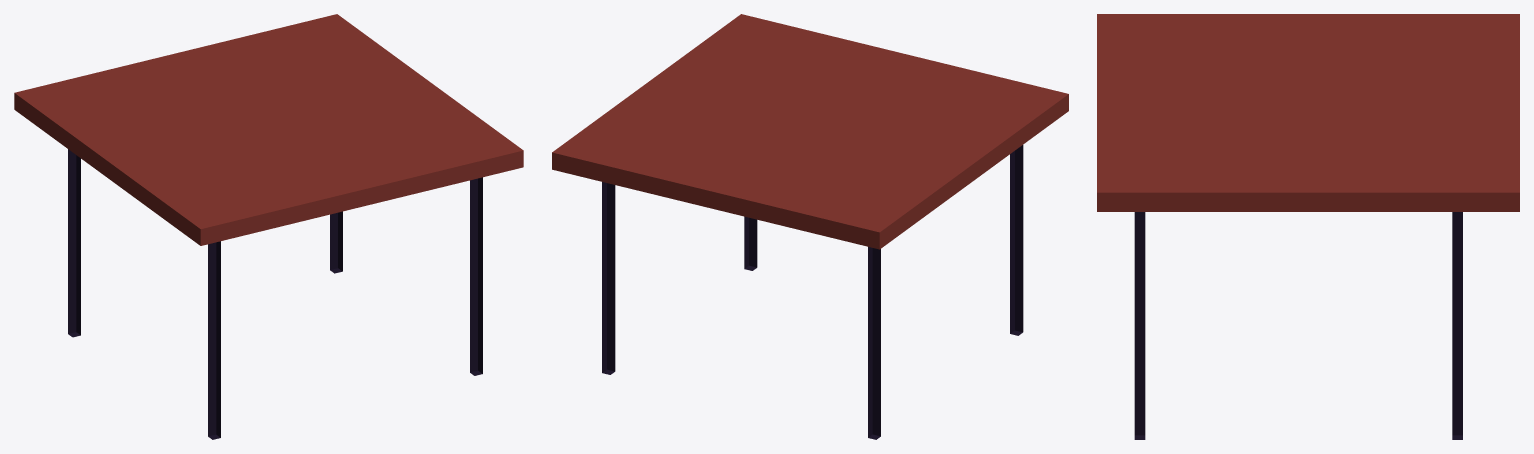
The model's file is table.dae.
3 views of the same model, side by side, from view 1: azimuth 30°, elevation 25°; view 2: azimuth 150°, elevation 25°; view 3: azimuth 270°, elevation 25° (orthographic). The views are drawn at different scales.
Visible parts, largest first — view 1: table; view 2: table; view 3: table.
Boxes of the visible parts, box(x1,y1,x2,y2) form: table: box(14, 14, 523, 439); table: box(552, 14, 1068, 439); table: box(1097, 14, 1519, 439).
Bounding box in the file's own units: 1.72 × 1.72 × 1.17.
Materials: 1 (1 with a texture image).
